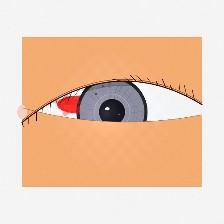hemorrhage_spot: (49, 81, 108, 128)
